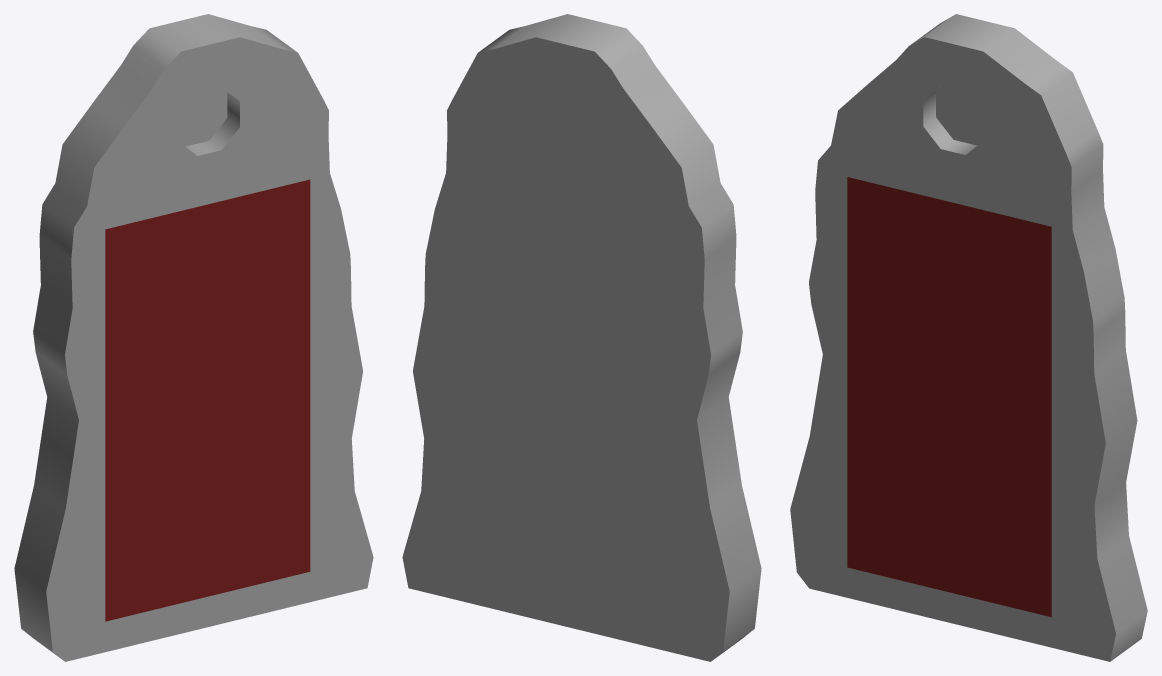
File: InstructionRock.fbx
3 renders of one model, left to right at view 1: azimuth 30°, elevation 25°; view 2: azimuth 150°, elevation 25°; view 3: azimuth 330°, elevation 25°, orthographic.
Visible parts, largest first — view 1: Body, Plane_ForPng; view 2: Body; view 3: Body, Plane_ForPng.
Part boxes in pixels (x1,y1,x2,y2): Body: [14, 14, 373, 661]; Plane_ForPng: [105, 179, 310, 621]; Body: [402, 14, 761, 661]; Body: [790, 14, 1147, 661]; Plane_ForPng: [847, 177, 1051, 617].
Bounding box in the file's own units: 0.0604 × 0.1026 × 0.0104.
